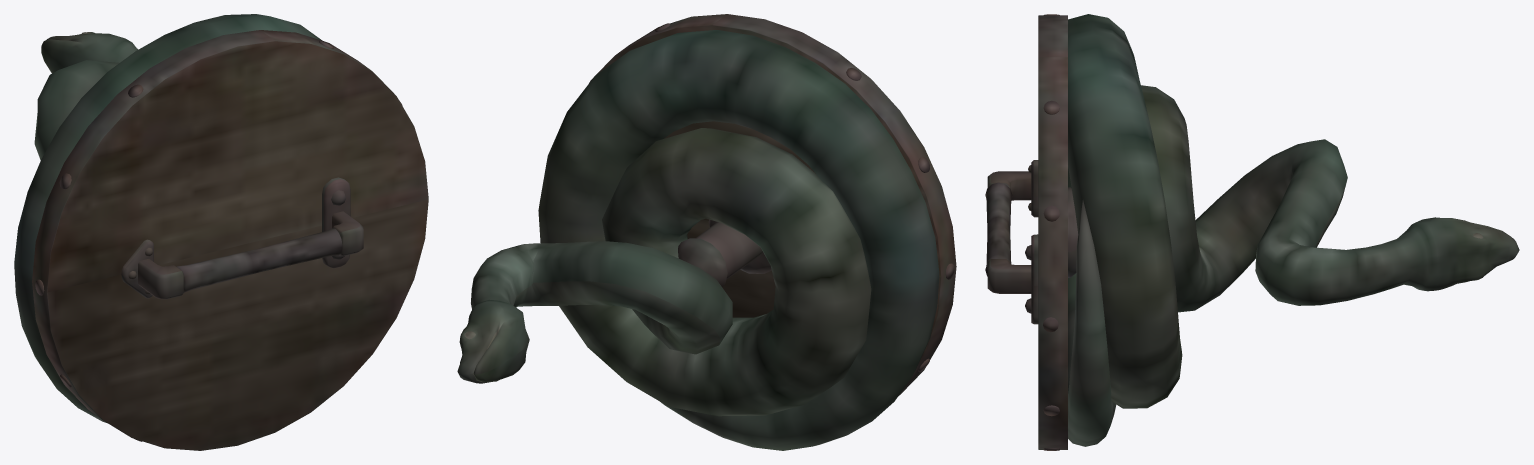
File: weapon-wp_a_2112.glb
3 views of the same model, side by side, from view 1: azimuth 30°, elevation 25°; view 2: azimuth 150°, elevation 25°; view 3: azimuth 270°, elevation 25° (orthographic).
Parts seen in each view (by area): view 1: wp_a_2112_mesh; view 2: wp_a_2112_mesh; view 3: wp_a_2112_mesh.
Part boxes in pixels (bbox=[...]): wp_a_2112_mesh: bbox=[14, 14, 428, 450]; wp_a_2112_mesh: bbox=[457, 14, 956, 450]; wp_a_2112_mesh: bbox=[985, 14, 1519, 450].
Size of the model in its own units: 0.3704 by 0.3694 by 0.4505.
1 material, 1 textured.
